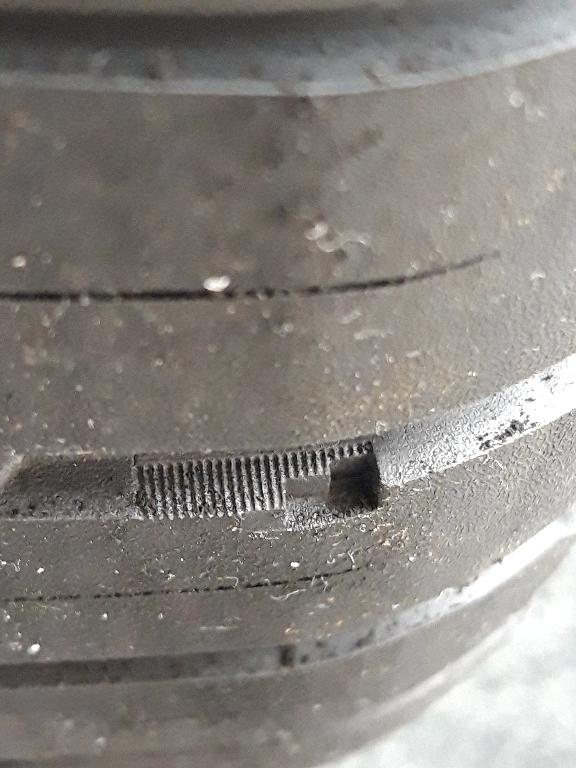temoin:50: (219, 423, 411, 552)
